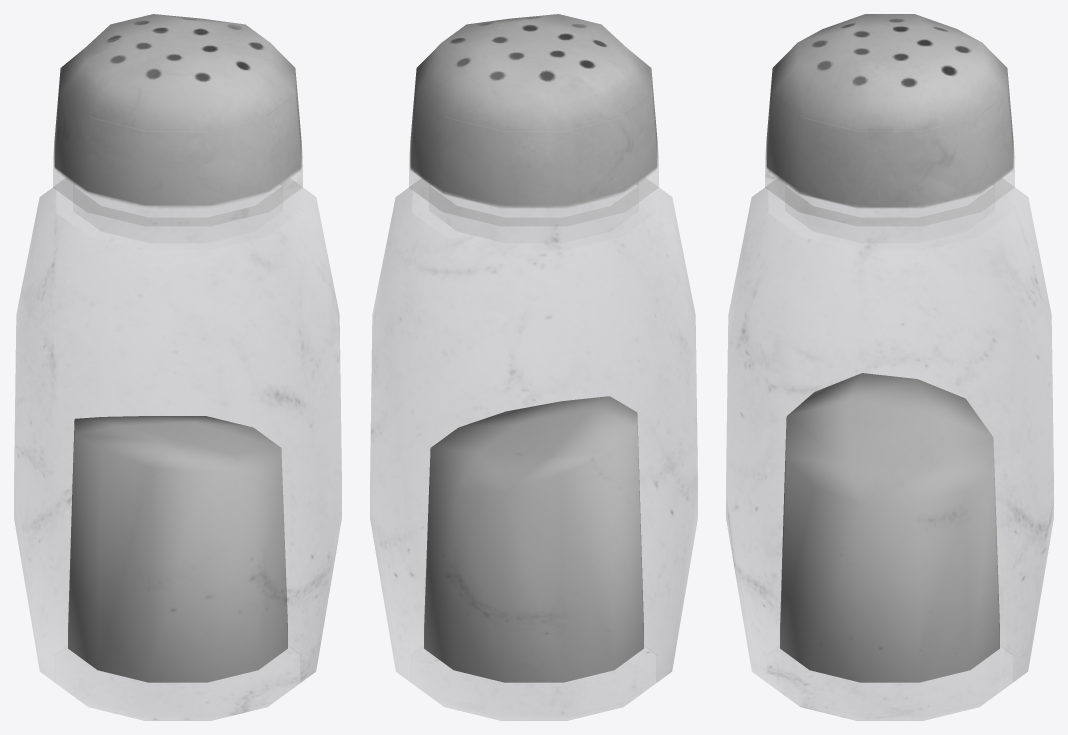
The picture shows the model from 3 angles, left to right: view 1: azimuth 30°, elevation 25°; view 2: azimuth 150°, elevation 25°; view 3: azimuth 270°, elevation 25°; orthographic projection.
Visible parts, largest first — view 1: SaltShaker; view 2: SaltShaker; view 3: SaltShaker.
Part boxes in pixels (x1,y1,x2,y2): SaltShaker: (14,14,341,720); SaltShaker: (370,14,697,720); SaltShaker: (726,14,1053,720).
Bounding box in the file's own units: 0.0504 × 0.1061 × 0.0504.
Materials: 1 (1 with a texture image).
